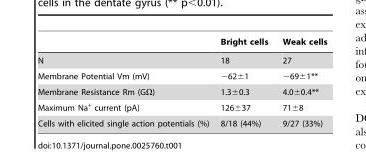table: (37, 37, 326, 127)
table column: (37, 37, 214, 127), (214, 37, 274, 127), (274, 37, 326, 127)
table column header: (37, 37, 326, 50)
table row: (37, 50, 326, 67), (37, 98, 326, 115), (37, 67, 326, 83), (37, 83, 326, 98), (37, 37, 326, 50), (37, 115, 326, 127)
